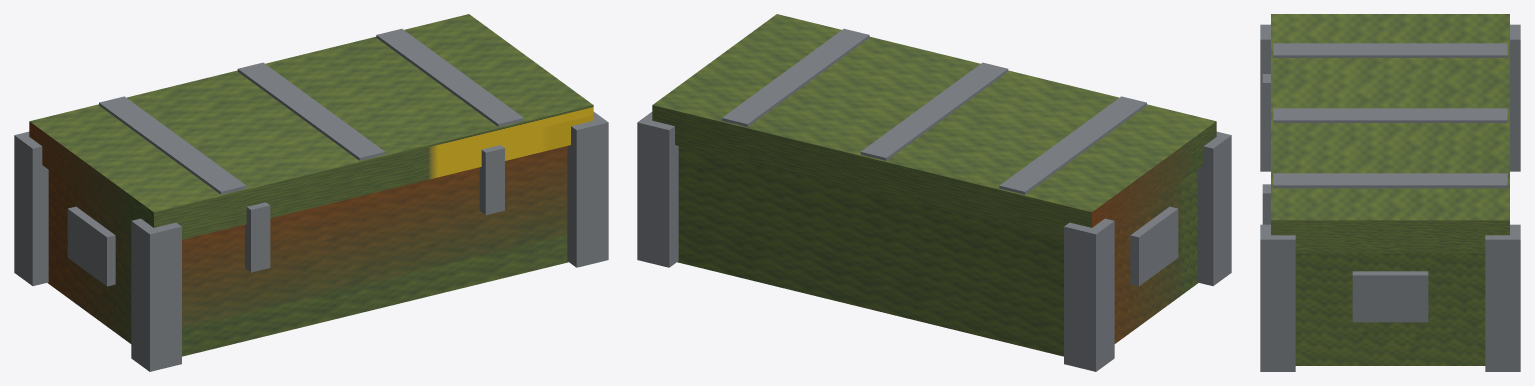
The model's file is prop_military_crate.glb.
3 views of the same model, side by side, from view 1: azimuth 30°, elevation 25°; view 2: azimuth 150°, elevation 25°; view 3: azimuth 270°, elevation 25° (orthographic). The views are drawn at different scales.
Parts seen in each view (by area): view 1: Cube.001, Cube, Cube.005, Cube.007, Cube.006, Cube.002, Cube.003, Cube.004, Cube.011, Cube.009, Cube.010; view 2: Cube.001, Cube, Cube.006, Cube.008, Cube.005, Cube.002, Cube.003, Cube.004, Cube.011; view 3: Cube.001, Cube, Cube.007, Cube.008, Cube.012, Cube.004, Cube.002, Cube.003, Cube.006, Cube.005, Cube.009, Cube.010.
Boxes of the visible parts, x1,y1,x2,y2 form: Cube.001: [29, 14, 593, 239]; Cube: [47, 146, 568, 356]; Cube.005: [131, 218, 181, 371]; Cube.007: [567, 112, 608, 267]; Cube.006: [14, 131, 48, 285]; Cube.002: [99, 96, 246, 194]; Cube.003: [237, 62, 385, 160]; Cube.004: [376, 28, 523, 126]; Cube.011: [67, 206, 115, 286]; Cube.009: [245, 202, 270, 272]; Cube.010: [479, 145, 504, 215]; Cube.001: [652, 14, 1216, 239]; Cube: [677, 146, 1198, 356]; Cube.006: [1064, 218, 1114, 371]; Cube.008: [637, 112, 678, 267]; Cube.005: [1197, 131, 1231, 285]; Cube.002: [999, 96, 1146, 194]; Cube.003: [860, 62, 1008, 160]; Cube.004: [722, 28, 869, 126]; Cube.011: [1130, 206, 1178, 286]; Cube.001: [1271, 14, 1509, 253]; Cube: [1295, 253, 1485, 365]; Cube.007: [1260, 224, 1295, 371]; Cube.008: [1485, 224, 1520, 371]; Cube.012: [1352, 271, 1428, 322]; Cube.004: [1273, 173, 1507, 188]; Cube.002: [1273, 43, 1507, 57]; Cube.003: [1273, 108, 1507, 122]; Cube.006: [1510, 24, 1520, 171]; Cube.005: [1260, 24, 1270, 171]; Cube.009: [1262, 74, 1270, 143]; Cube.010: [1262, 184, 1270, 224].
Bounding box in the file's own units: 2.15 × 0.706 × 1.1.
2 materials, 1 textured.
